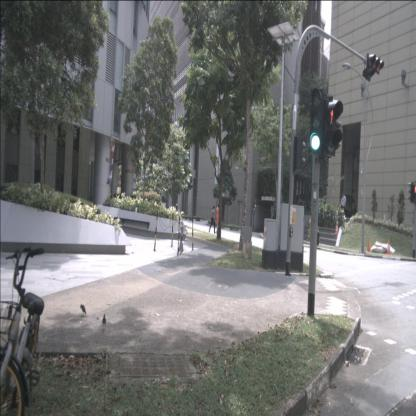human-pedestrian-adult: (209, 205, 216, 234), (340, 193, 347, 218), (216, 202, 221, 236), (340, 196, 345, 216)
movable_object-trafficcone: (386, 239, 392, 255), (366, 238, 372, 253), (334, 220, 339, 235)
vehicle-bicycle: (0, 244, 45, 416)
